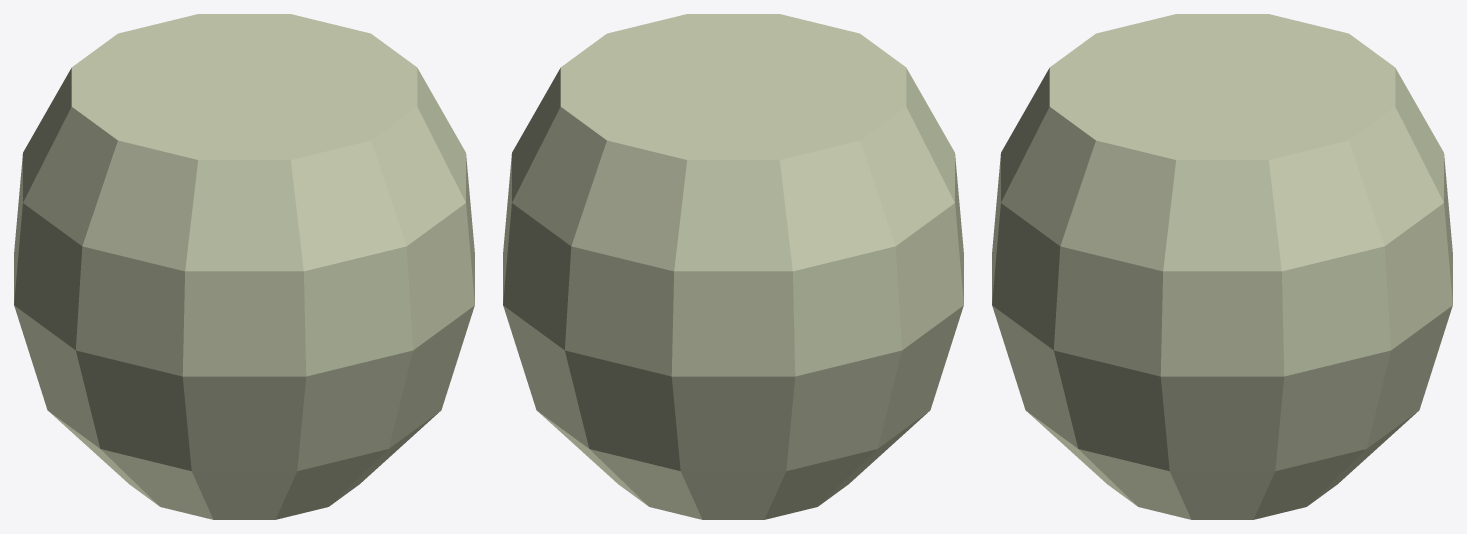
Rendered from tantares_orbital_module_s1_1_collider.obj.
The picture shows the model from 3 angles, left to right: view 1: azimuth 30°, elevation 25°; view 2: azimuth 150°, elevation 25°; view 3: azimuth 270°, elevation 25°; orthographic projection.
Parts seen in each view (by area): view 1: collider; view 2: collider; view 3: collider.
Boxes of the visible parts, x1=… form: collider: x1=14, y1=14, x2=474, y2=519; collider: x1=503, y1=14, x2=963, y2=519; collider: x1=992, y1=14, x2=1452, y2=519.
Size of the model in its own units: 1.25 by 1.15 by 1.25.
